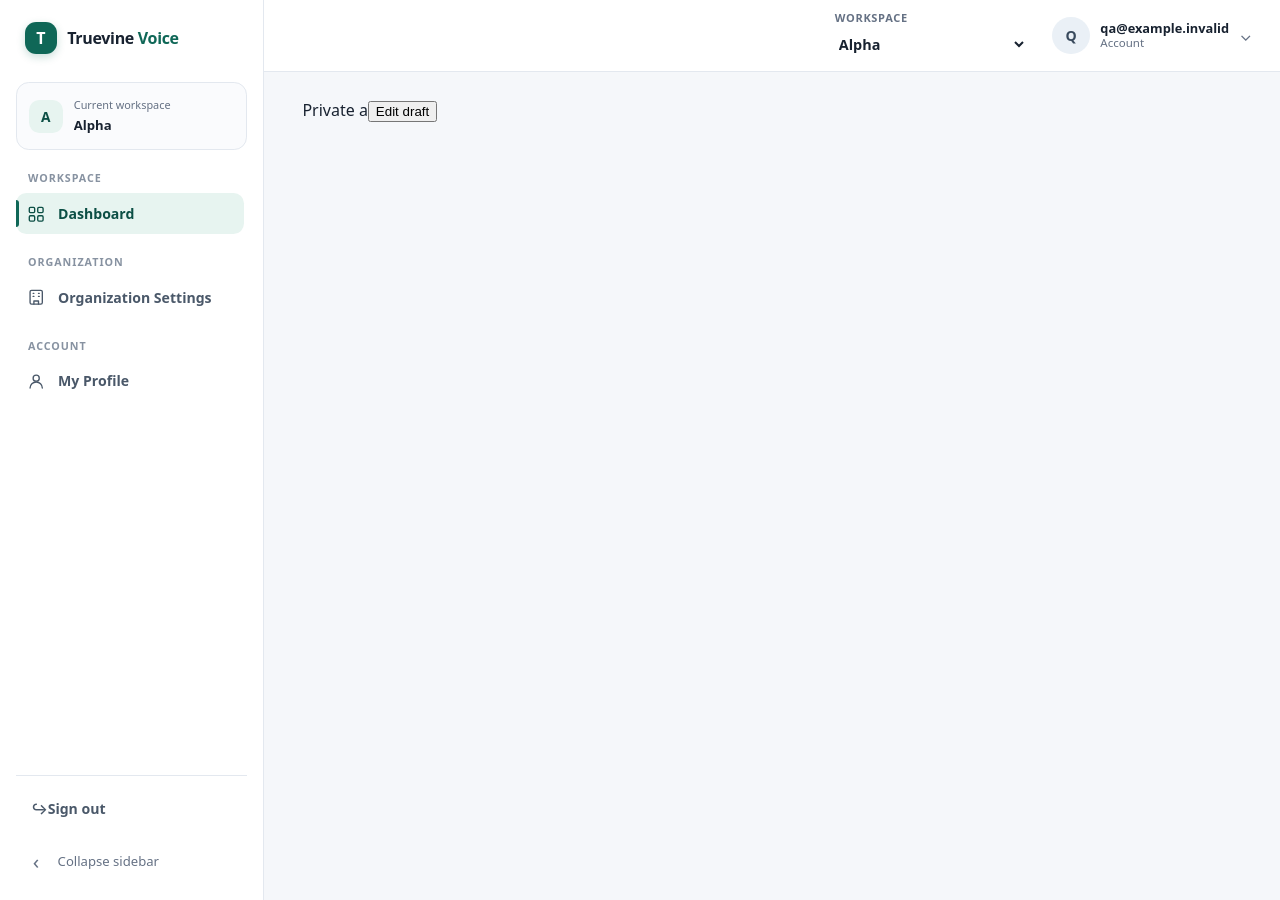
it: secure organization workspace transitions › hides tenant content after session expiration instead of restoring previous data
Select "Beta" in the dropdown labelled "Workspace" at (931, 45), box [835,27,1027,62]
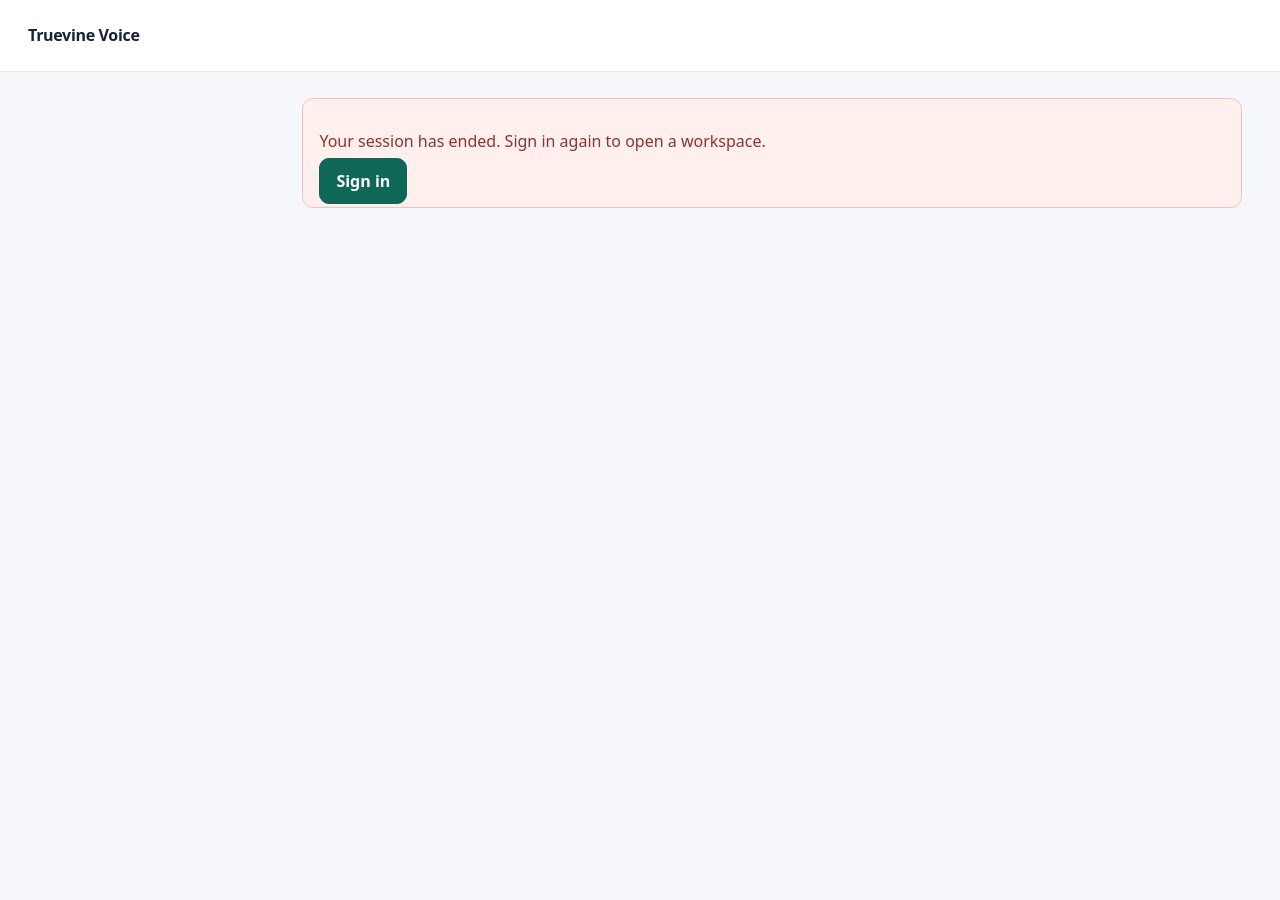
Expected: the link "Truevine Voice" is shown, [28,23,140,48]
Expected: the text "Private a" is gone
